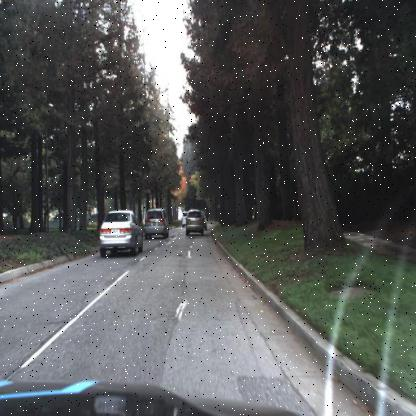car: (94, 212, 145, 261), (141, 206, 168, 242), (186, 206, 208, 235), (180, 209, 191, 231), (178, 211, 190, 231), (197, 210, 209, 230)
